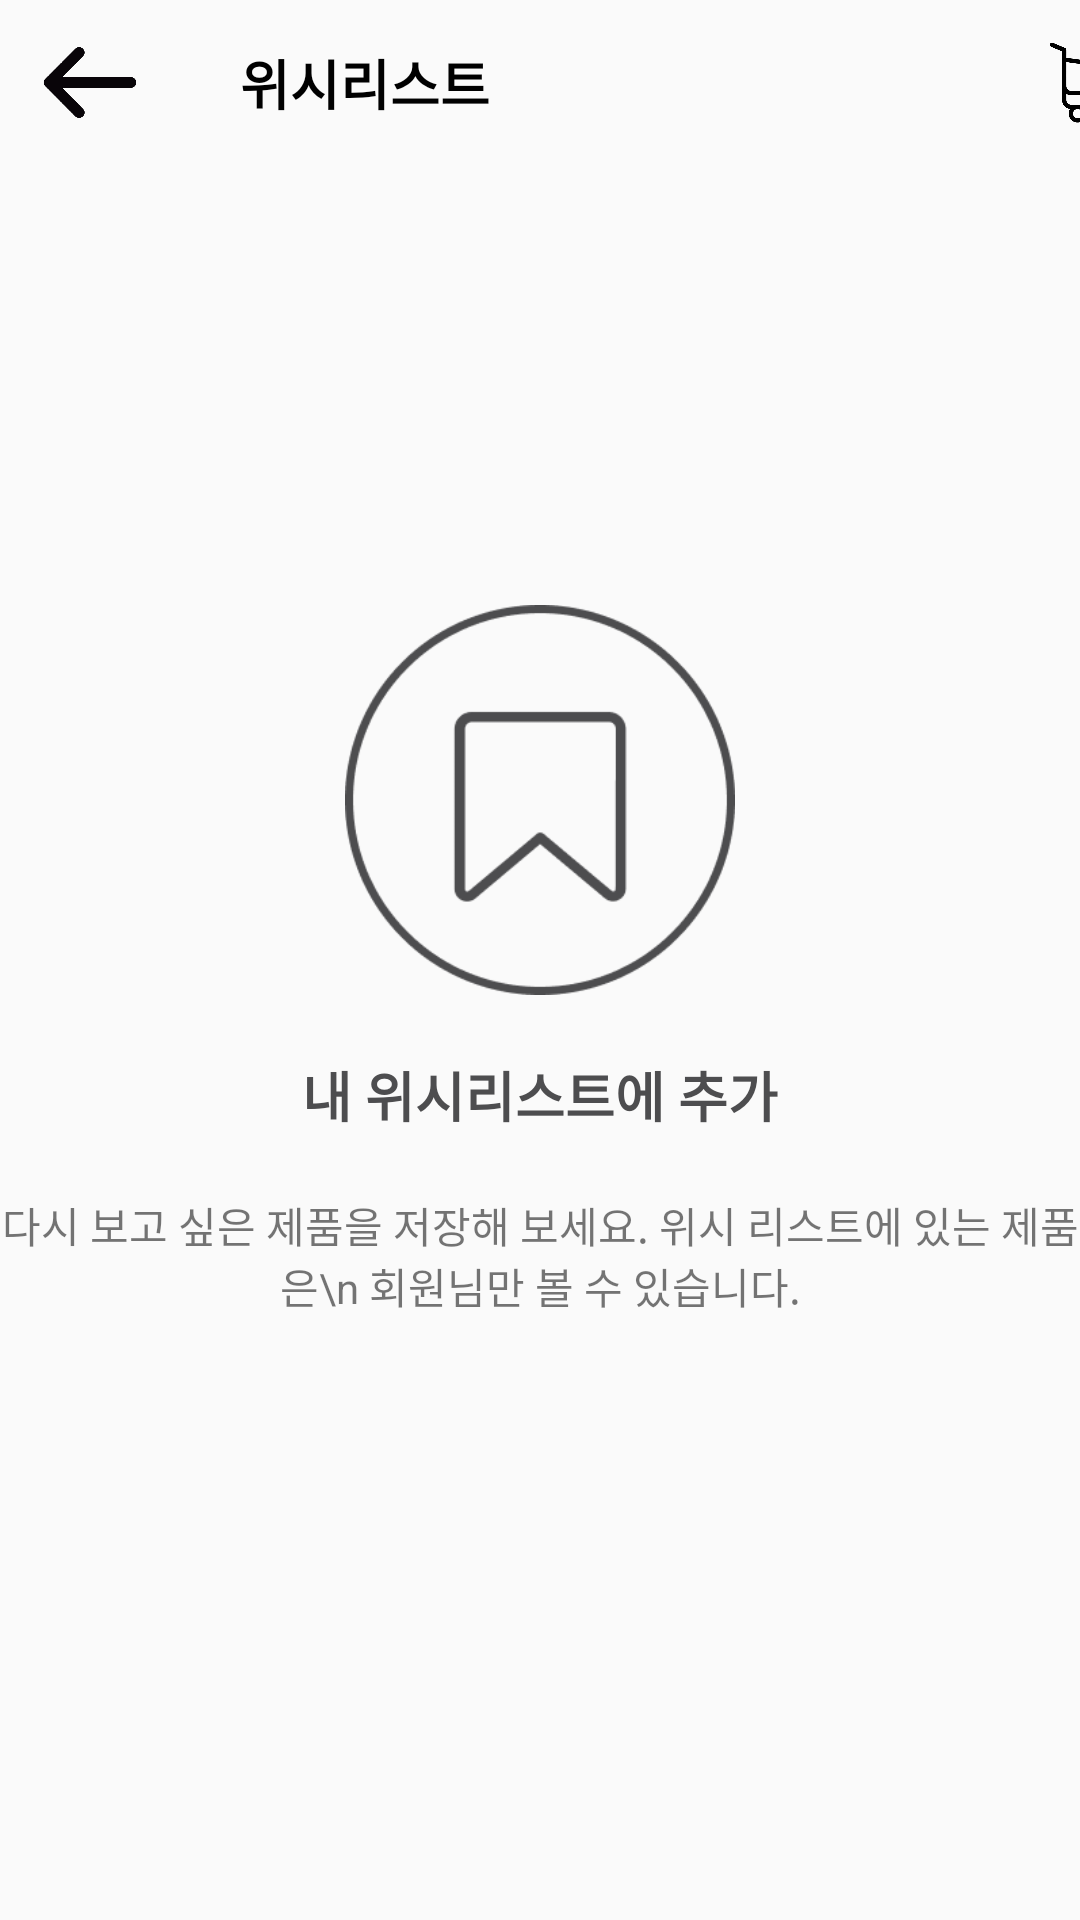

Icon click points for this 1080 x 1920 phone screenshot, format (x=x, y=y):
arrow left: (x=90, y=82)
